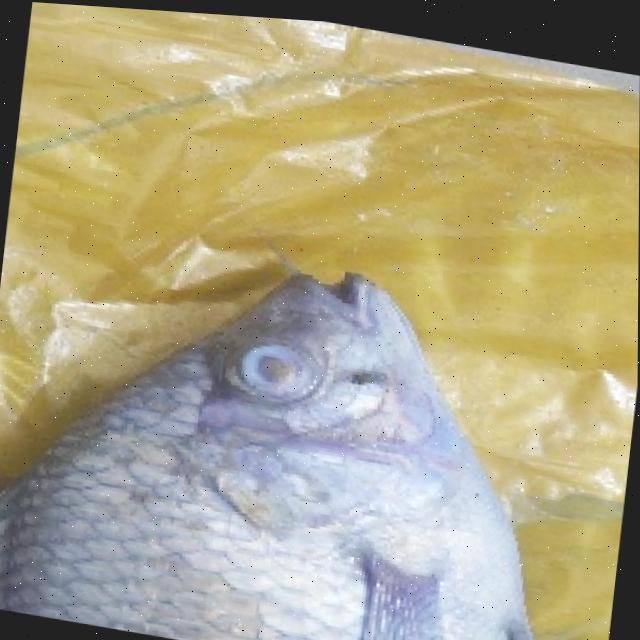Non-Fresh: (212, 306, 330, 430)
